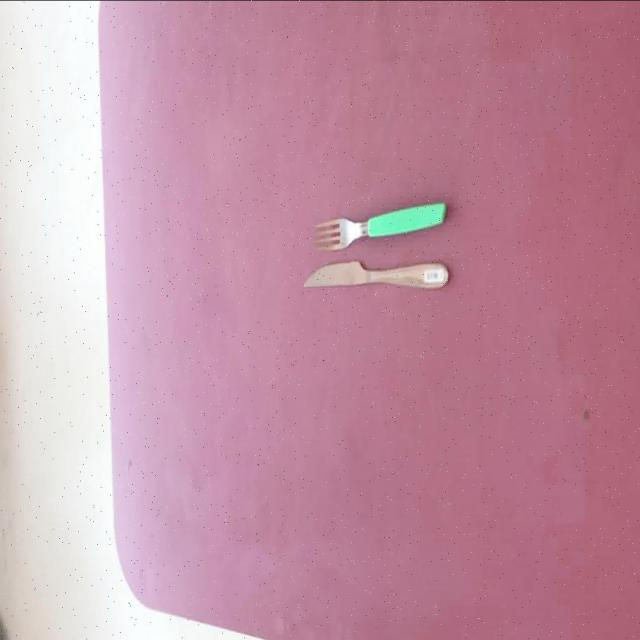Fork: (313, 200, 447, 250)
Knife: (302, 258, 448, 288)
